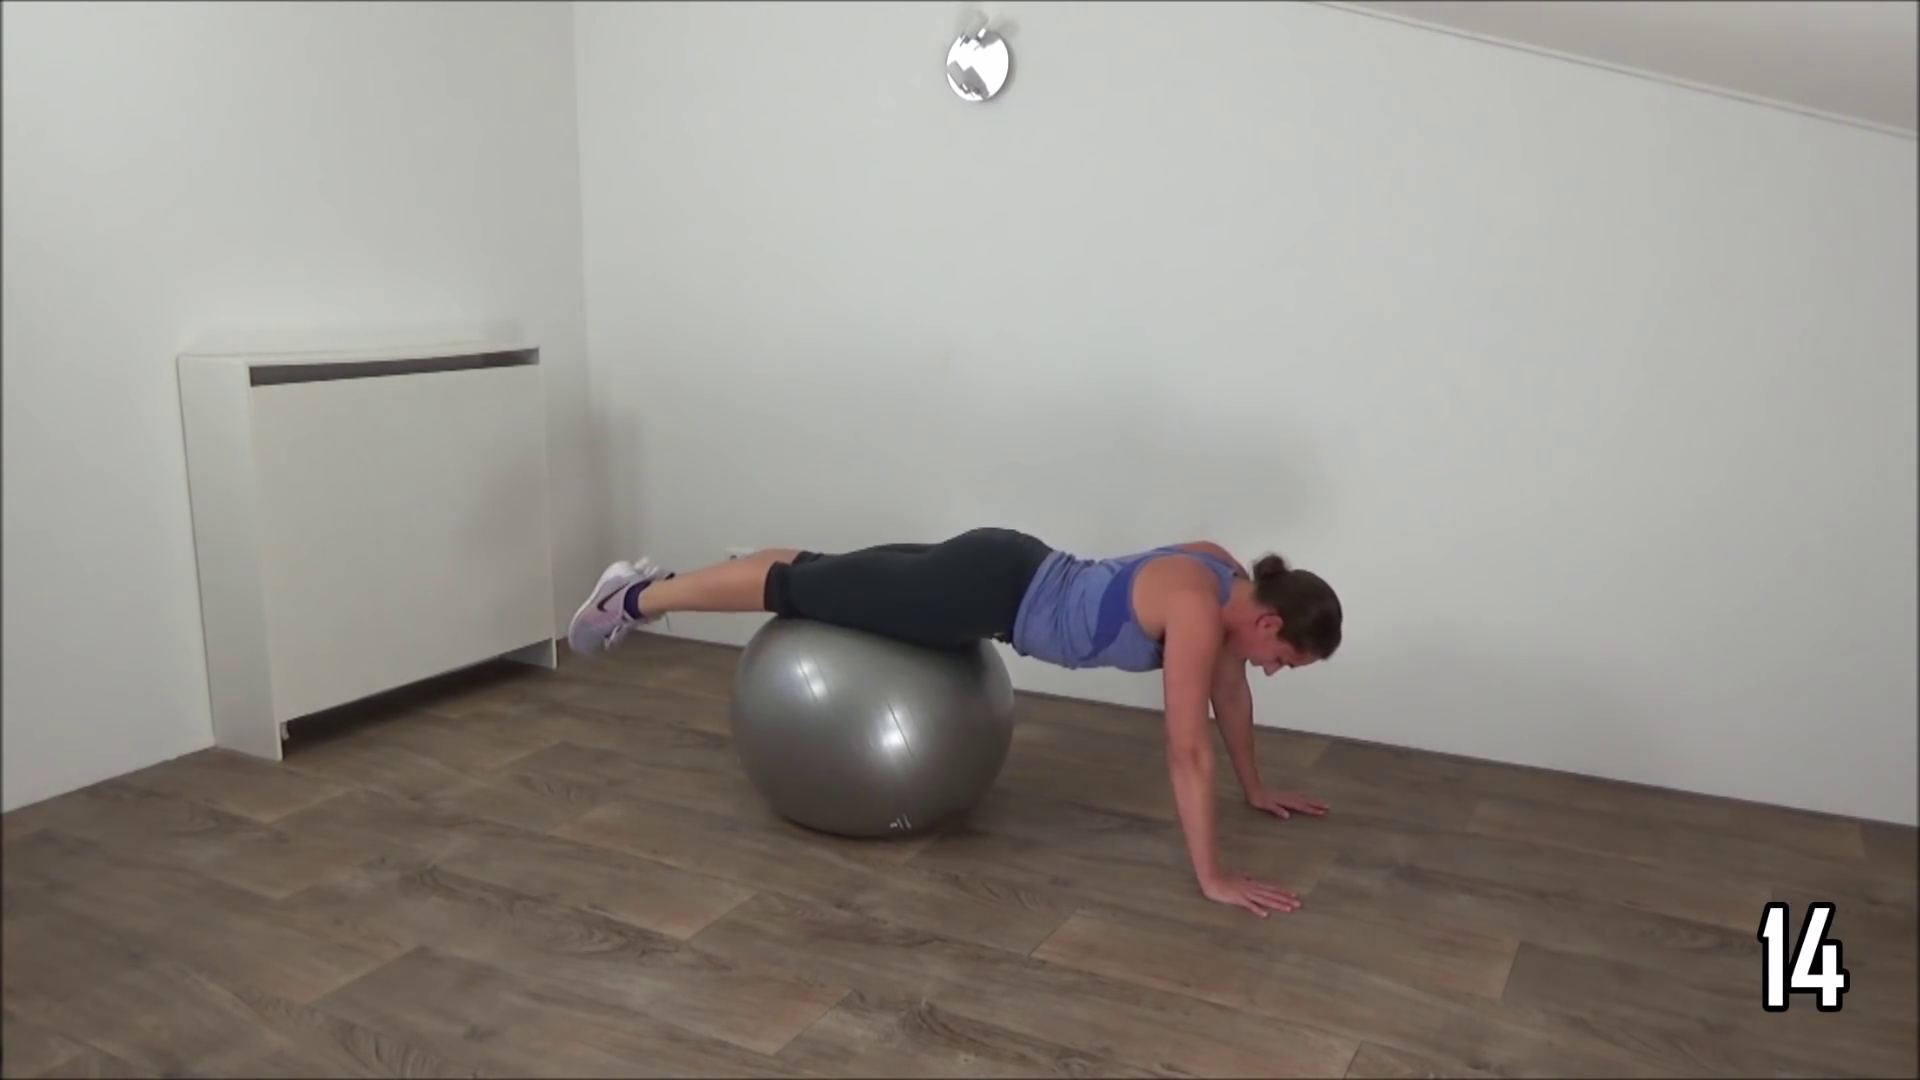yogaball: (719, 582, 1030, 857)
